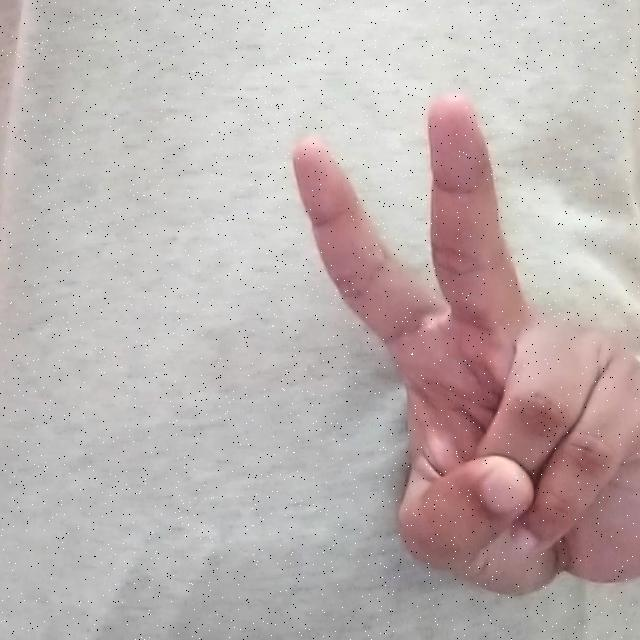V: (274, 86, 631, 600)
